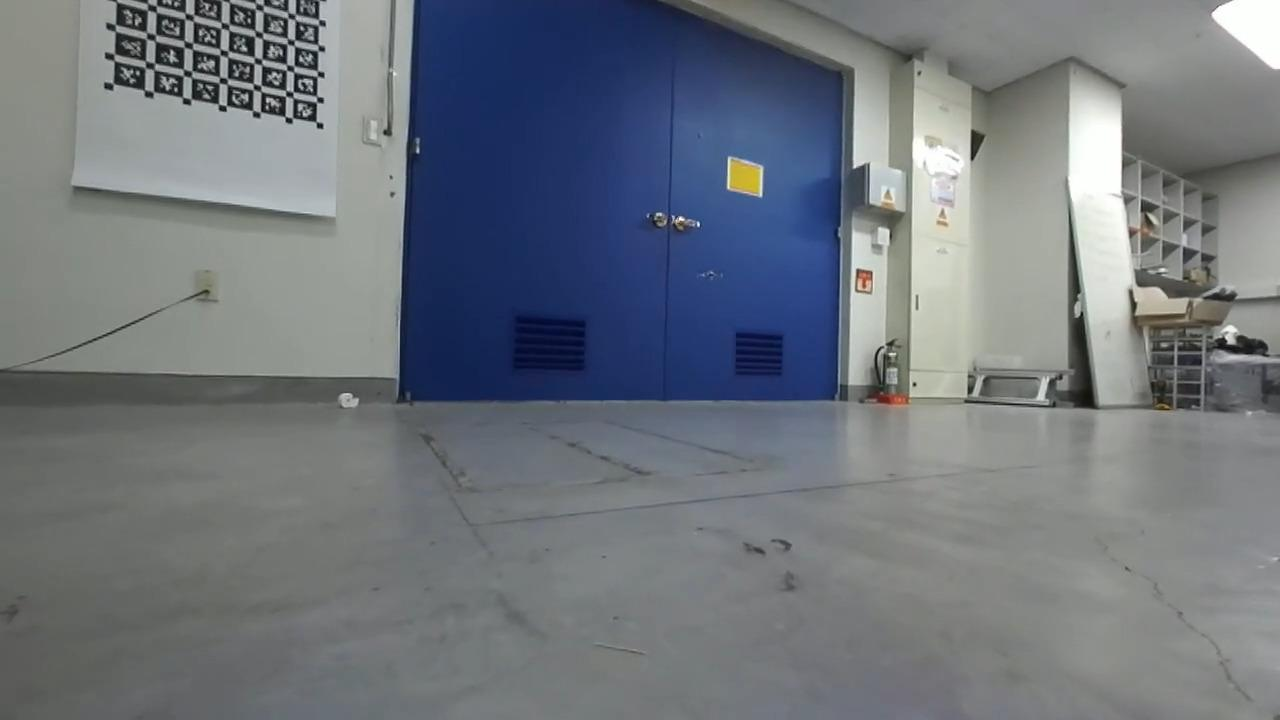crazyflie: (694, 265, 728, 285)
